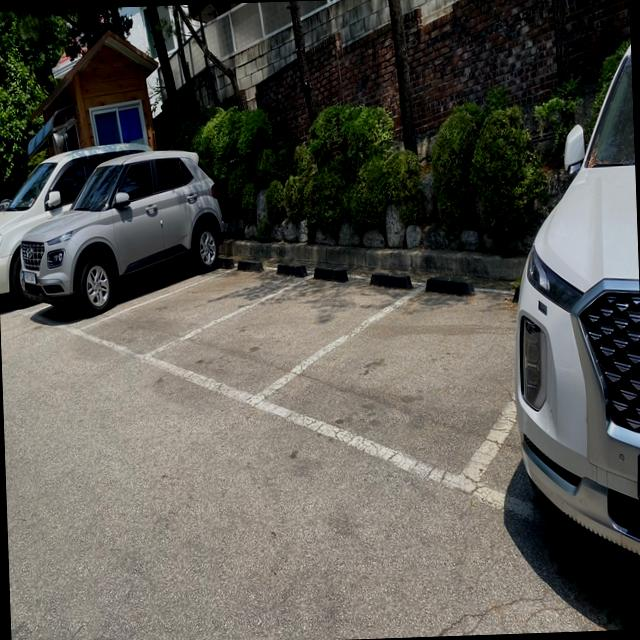free: (237, 278, 520, 500), (125, 268, 432, 407), (66, 261, 328, 368)
